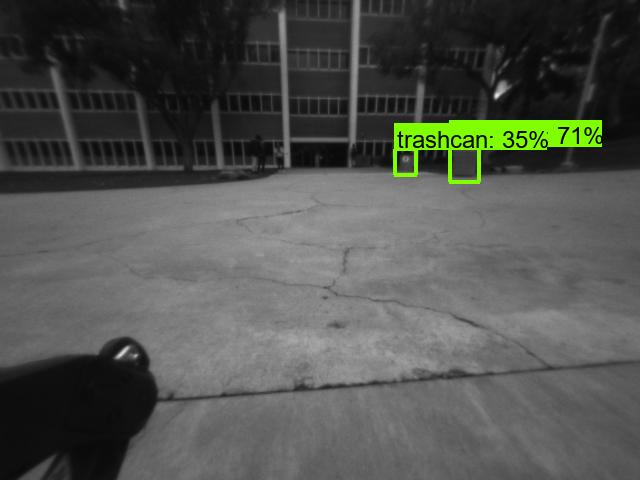trashcan: (448, 144, 479, 183), (396, 151, 416, 176)
